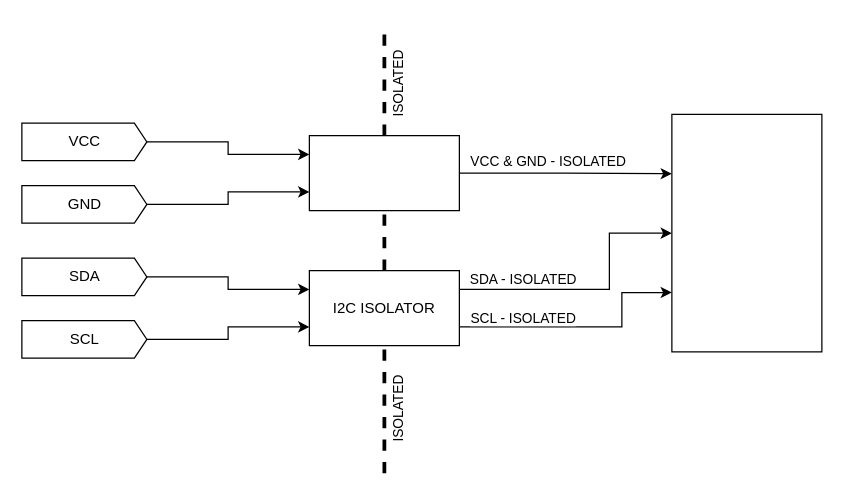
Image size: 844x498. Some labels were removed from this diagram. Here are the shapes that lost their labels. From the top down, the centre of each, then its label:
At point 383,172: "ISOLATED DC-DC".
At point 746,232: "Atlas Scientific EZO Board".
